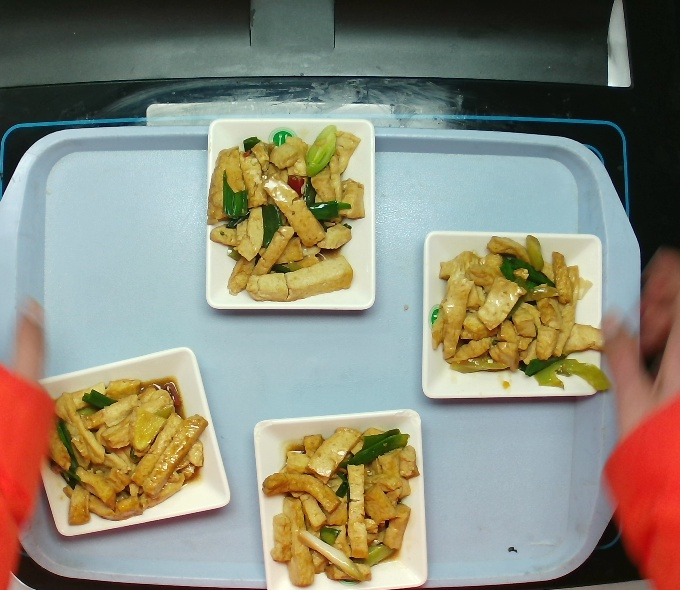wcq-SuanMiaoChaoXiangGan: (41, 362, 215, 528), (203, 128, 365, 306), (429, 238, 603, 388), (264, 429, 415, 577)
